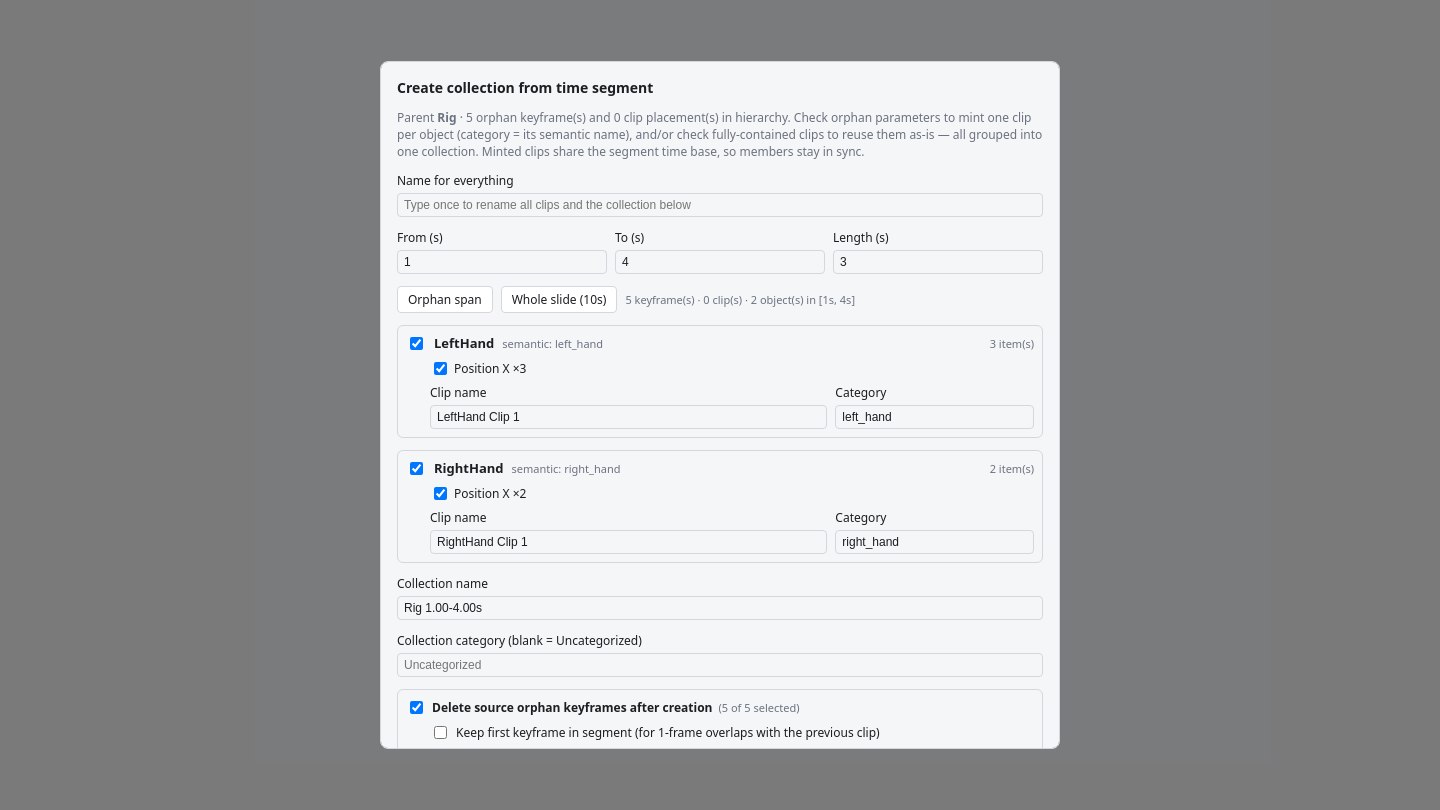
it: TimeSegmentToCollectionModal › narrows objects when the range shrinks
The image size is (1440, 810).
Expected: the element with test id "segment-object-nA" is shown, [397,325,1043,438]
Replace the text in the field with test id "segment-from-input" with "3": (502, 262) [397,250,607,274]
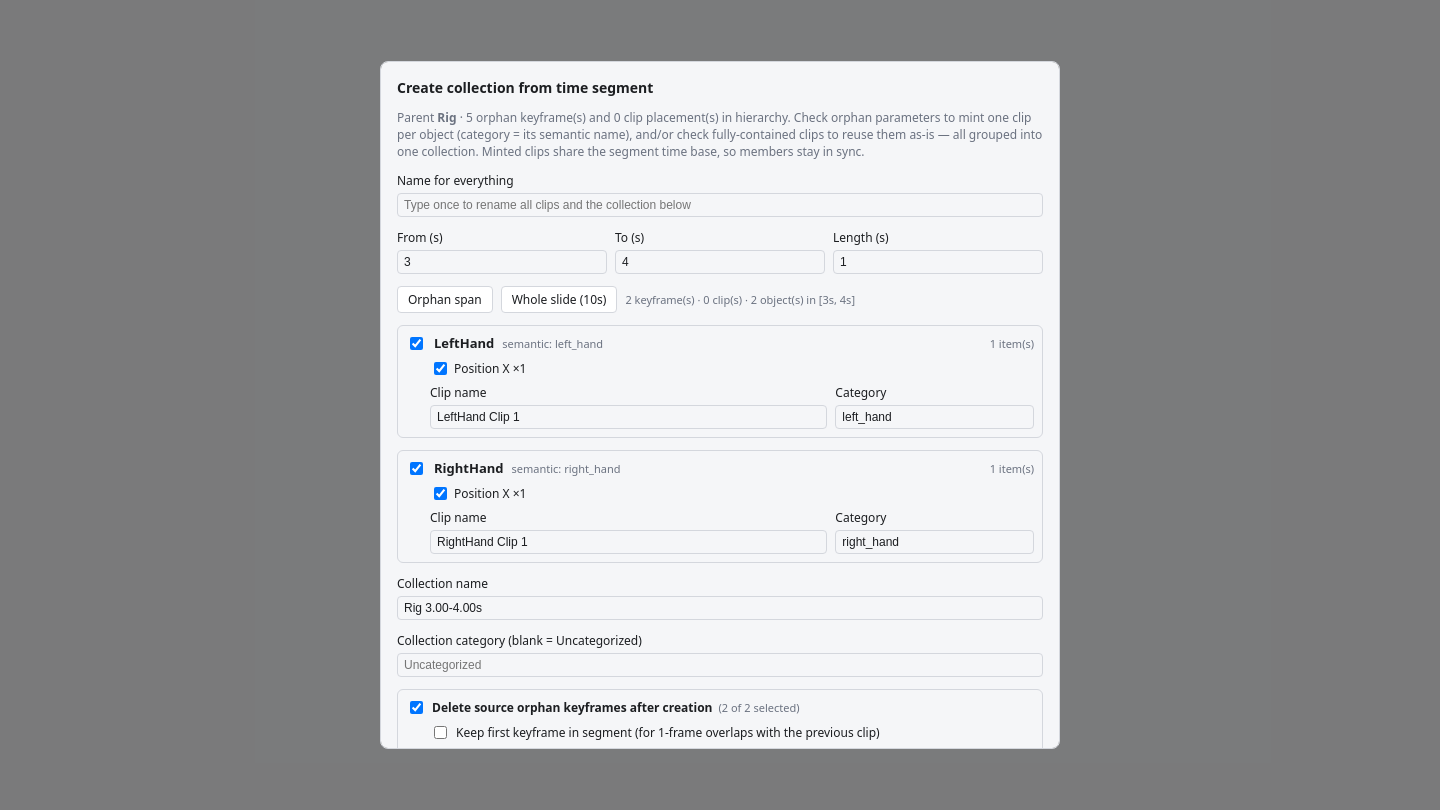
Expected: the element with test id "segment-object-nA" is shown, [397,325,1043,438]
Expected: the element with test id "segment-object-nB" is shown, [397,450,1043,563]
Replace the text in the field with test id "segment-from-input" with "4.5": (502, 262) [397,250,607,274]
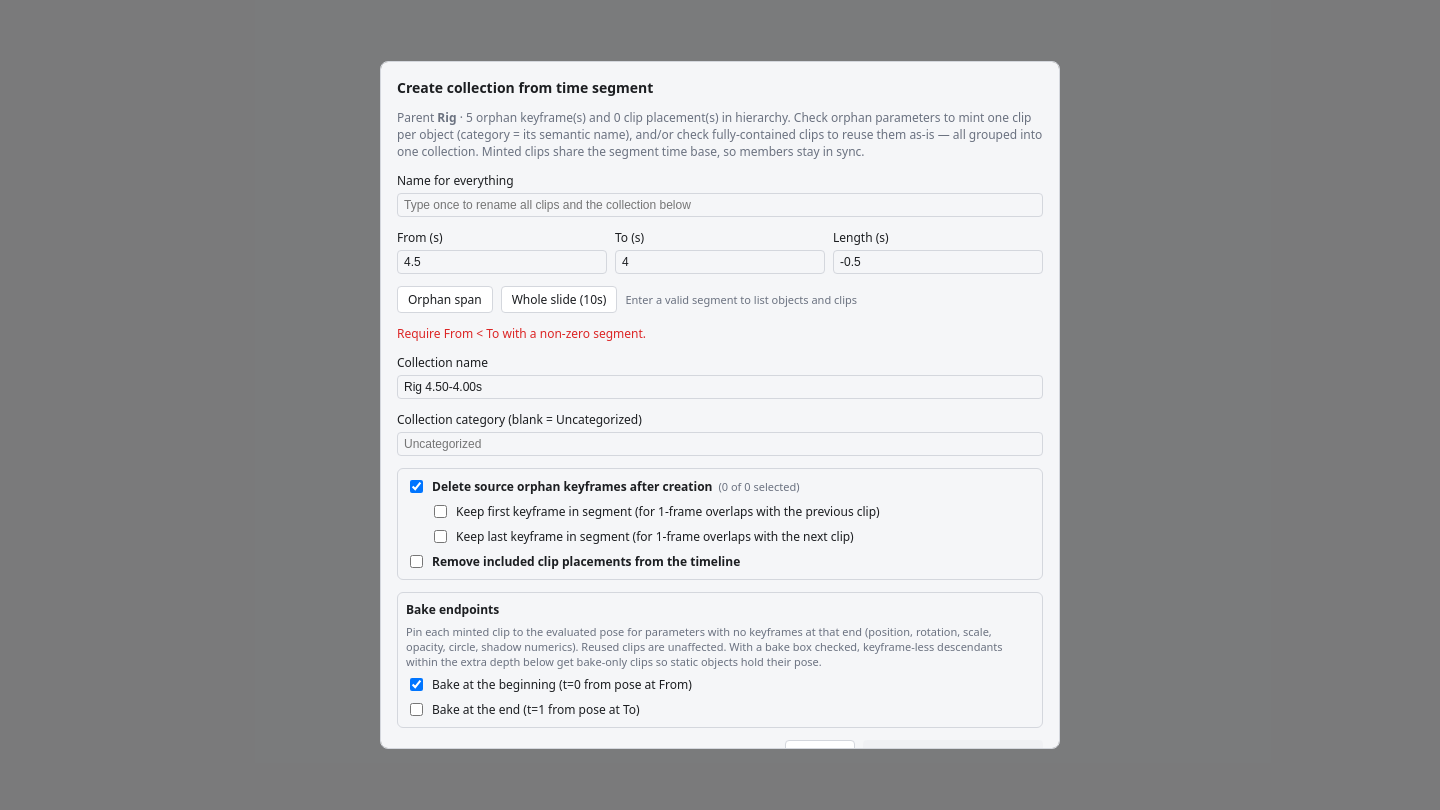
Expected: the element with test id "segment-object-nA" is gone
Expected: the element with test id "segment-object-nB" is gone
